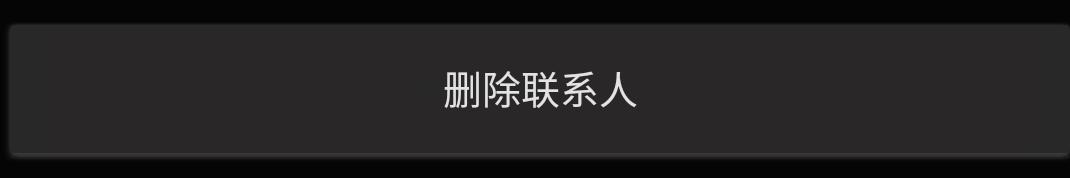Button: (1, 1, 1069, 177)
